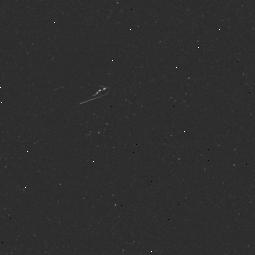proba_3_ocs: (72, 79, 155, 120)
